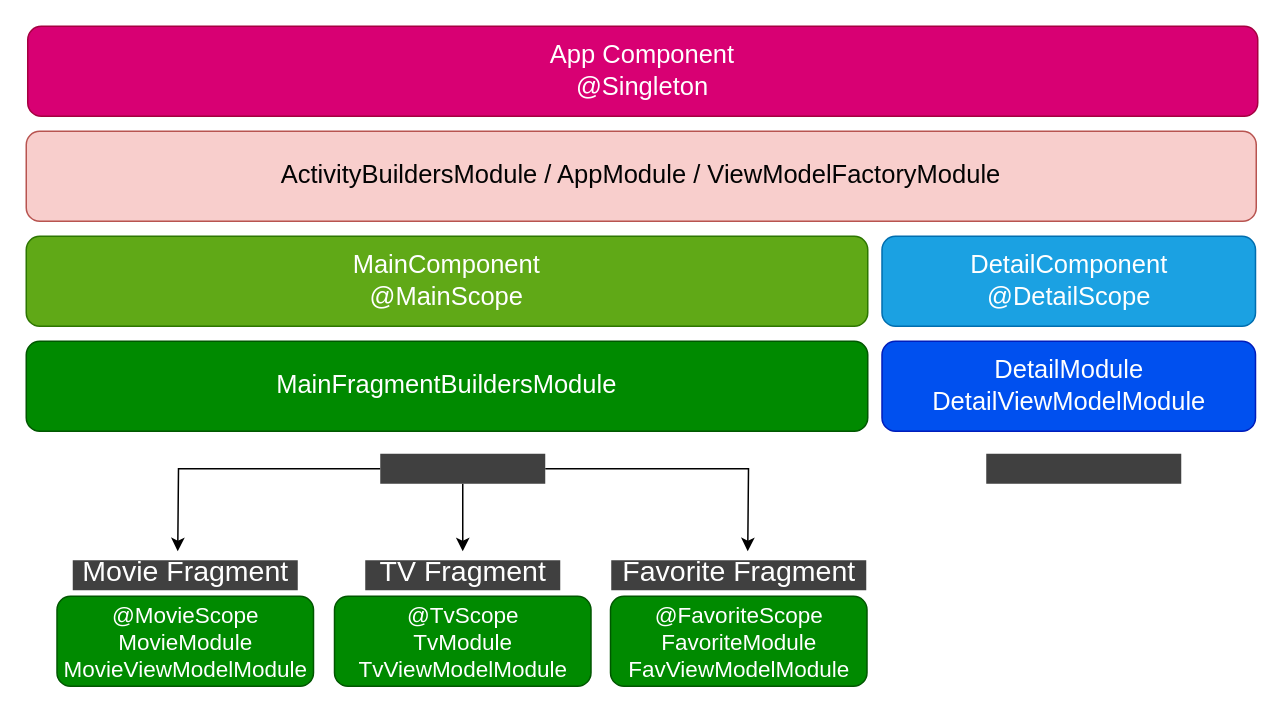
The diagram is 1284 pixels wide and 713 high, and some of its shapes have lost their labels. Each missing label, with the centre of its shape:
"Detail Activity" belongs at (x=1083, y=468).
"Main Activity" belongs at (x=462, y=468).
